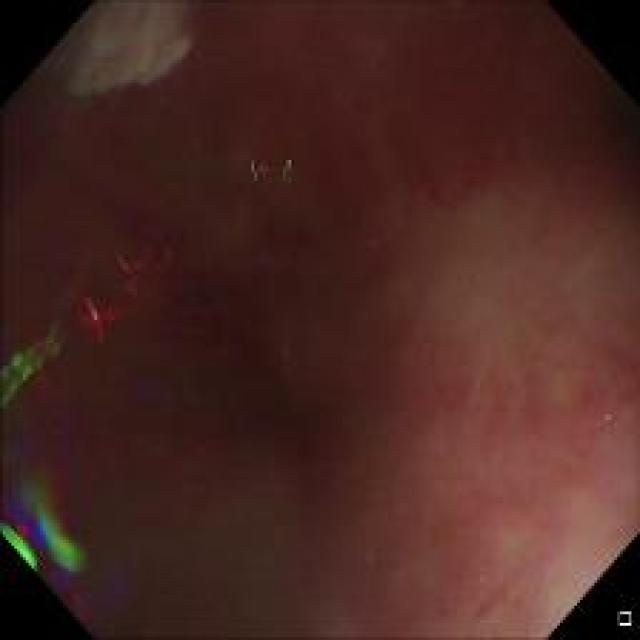color misalignment: (79, 231, 169, 341), (11, 475, 89, 588), (6, 309, 65, 401), (239, 146, 312, 181)
contrast: (29, 40, 450, 560)
